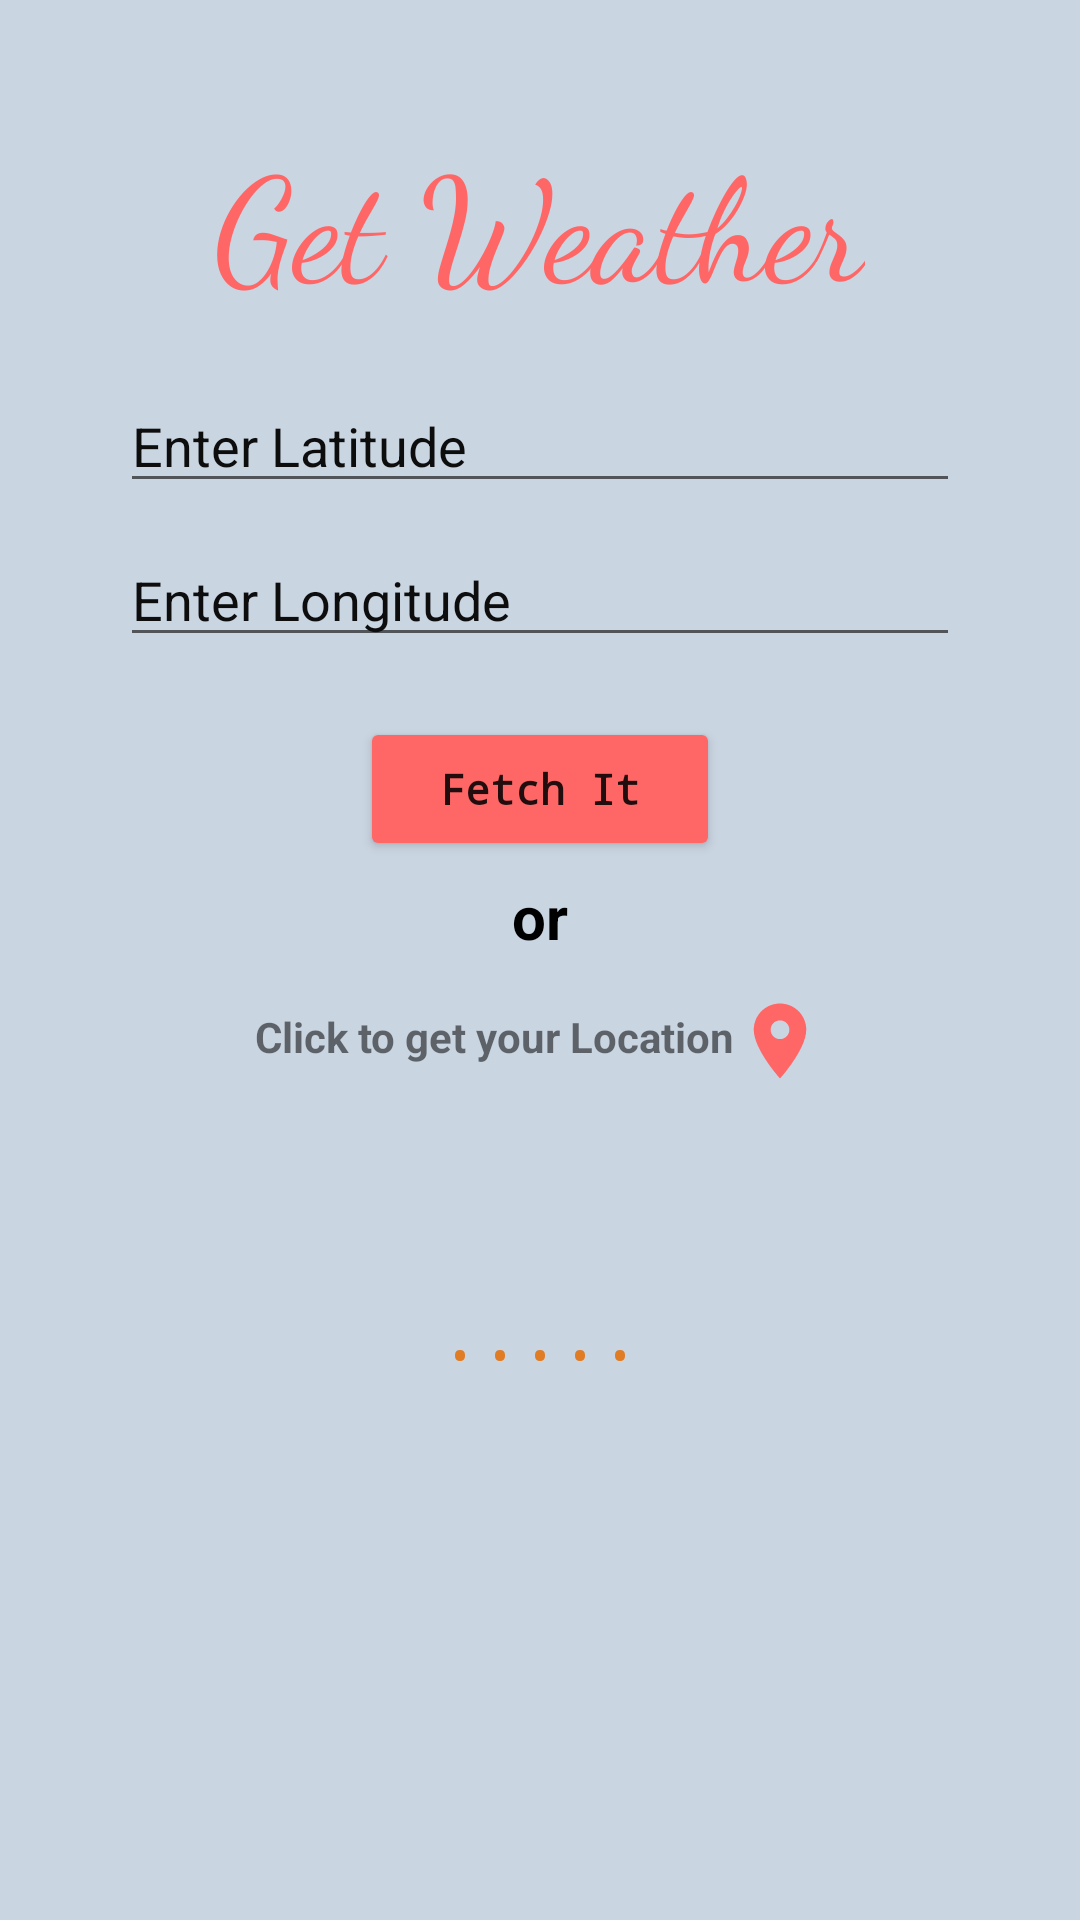

Point at icon controls on the screen. Image size 1080*1920, points as [x,y].
location on: [780,1040]
